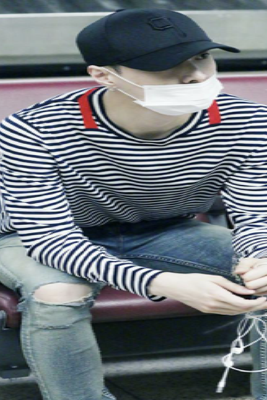mask_weared_incorrect: (121, 52, 217, 115)
